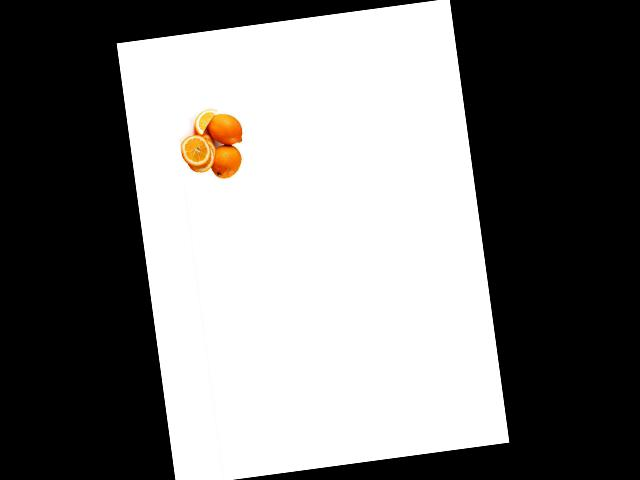lemon: (209, 139, 244, 179)
